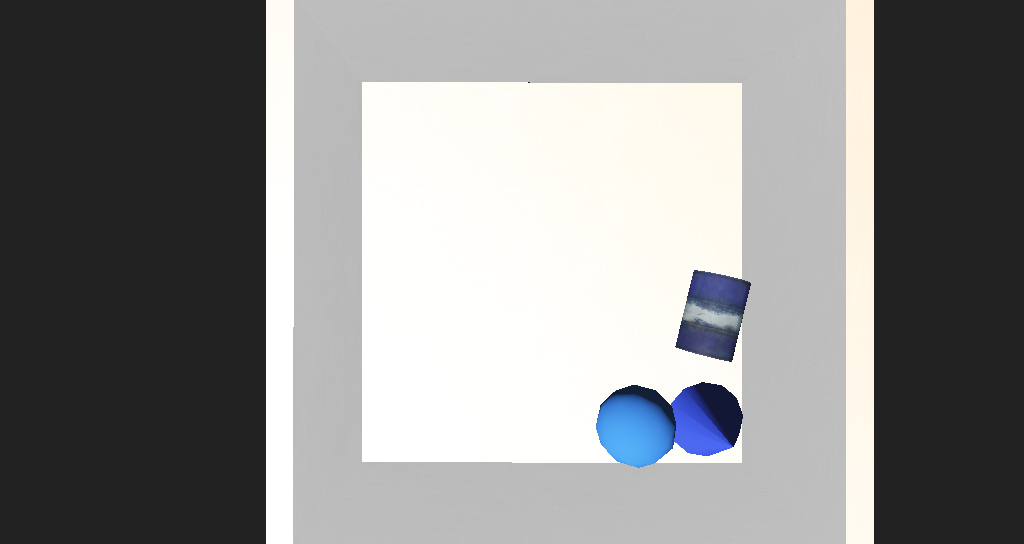cone: (600, 270, 667, 322)
cylinder: (603, 329, 677, 387)
sphere: (542, 329, 603, 377)
